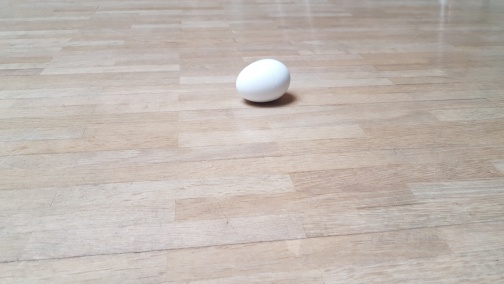egg: (235, 56, 292, 104)
